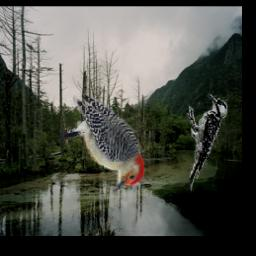Woodpecker: (59, 94, 144, 192), (188, 94, 228, 193)
